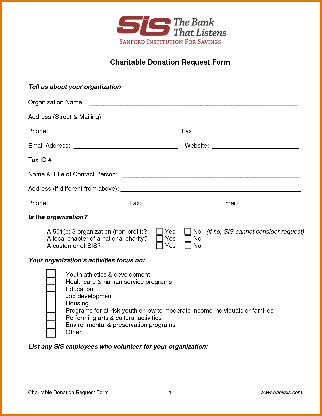checkbox: (42, 275, 57, 286), (44, 303, 57, 315), (44, 311, 57, 322), (44, 319, 57, 330), (44, 327, 57, 338), (45, 267, 57, 278), (44, 296, 57, 306), (45, 283, 56, 293), (182, 225, 192, 235), (154, 233, 164, 242), (154, 241, 164, 250), (182, 234, 192, 243), (182, 241, 192, 250), (45, 290, 55, 299), (154, 226, 163, 235)
textline: (44, 355, 296, 366), (119, 181, 303, 194), (106, 110, 301, 122), (89, 96, 300, 107), (44, 365, 296, 374), (121, 168, 300, 180), (81, 328, 294, 338), (53, 153, 180, 165), (48, 124, 156, 136), (72, 138, 179, 150), (195, 124, 301, 136), (210, 139, 302, 152), (141, 195, 216, 208), (48, 196, 124, 208), (237, 196, 303, 209)
